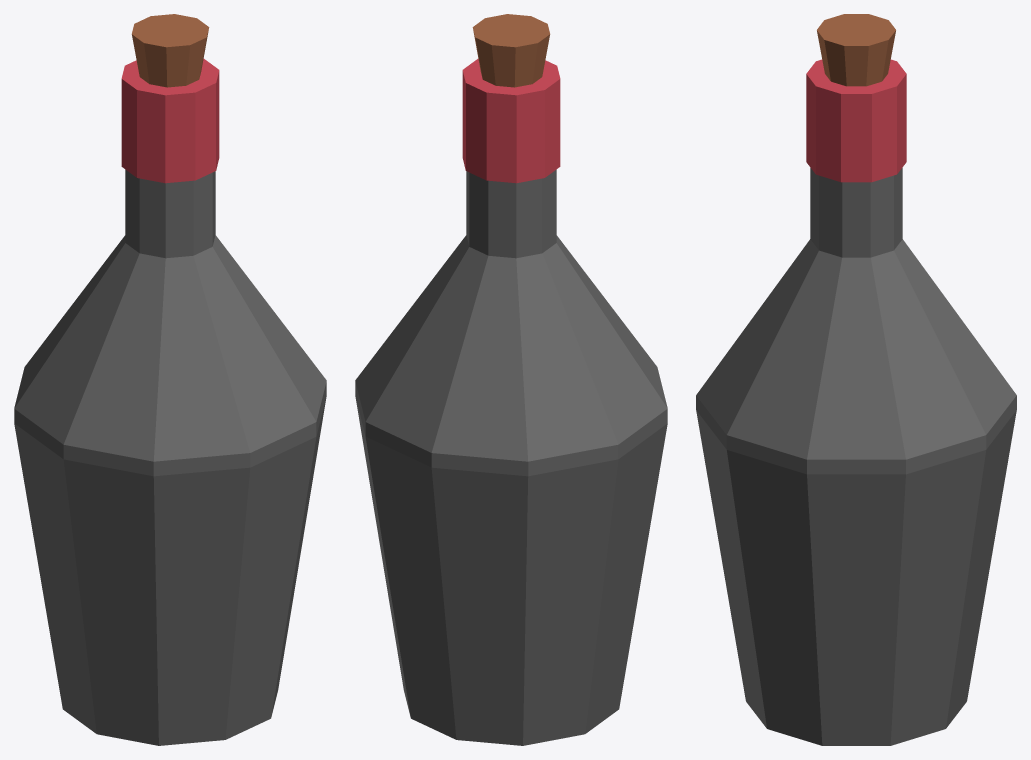
Rendered from wine.glb.
The picture shows the model from 3 angles, left to right: view 1: azimuth 30°, elevation 25°; view 2: azimuth 150°, elevation 25°; view 3: azimuth 270°, elevation 25°; orthographic projection.
Visible parts, largest first — view 1: wine; view 2: wine; view 3: wine.
Boxes of the visible parts, bbox=[...] form: wine: bbox=[14, 14, 326, 745]; wine: bbox=[355, 14, 667, 745]; wine: bbox=[696, 14, 1016, 745].
Size of the model in its own units: 0.0663 by 0.161 by 0.0697.
1 material, 1 textured.
